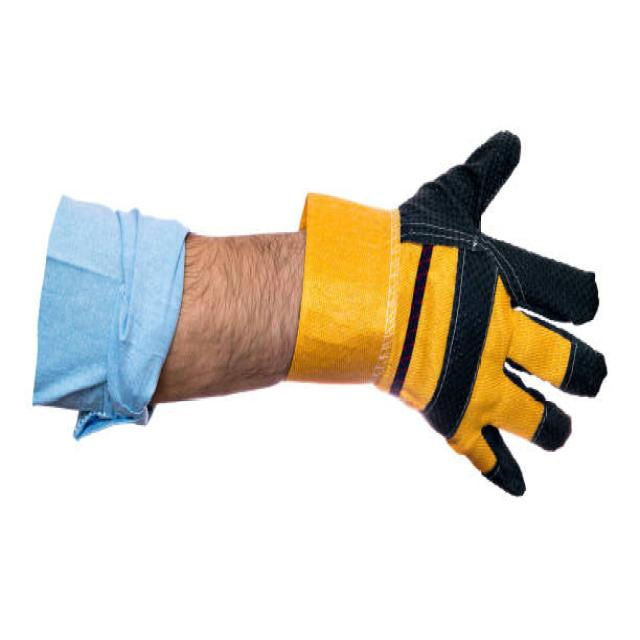Gloves: (273, 124, 610, 504)
